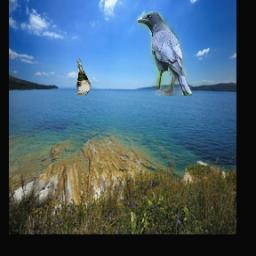Crow: (137, 11, 192, 96)
Cuckoo: (74, 59, 91, 96)
